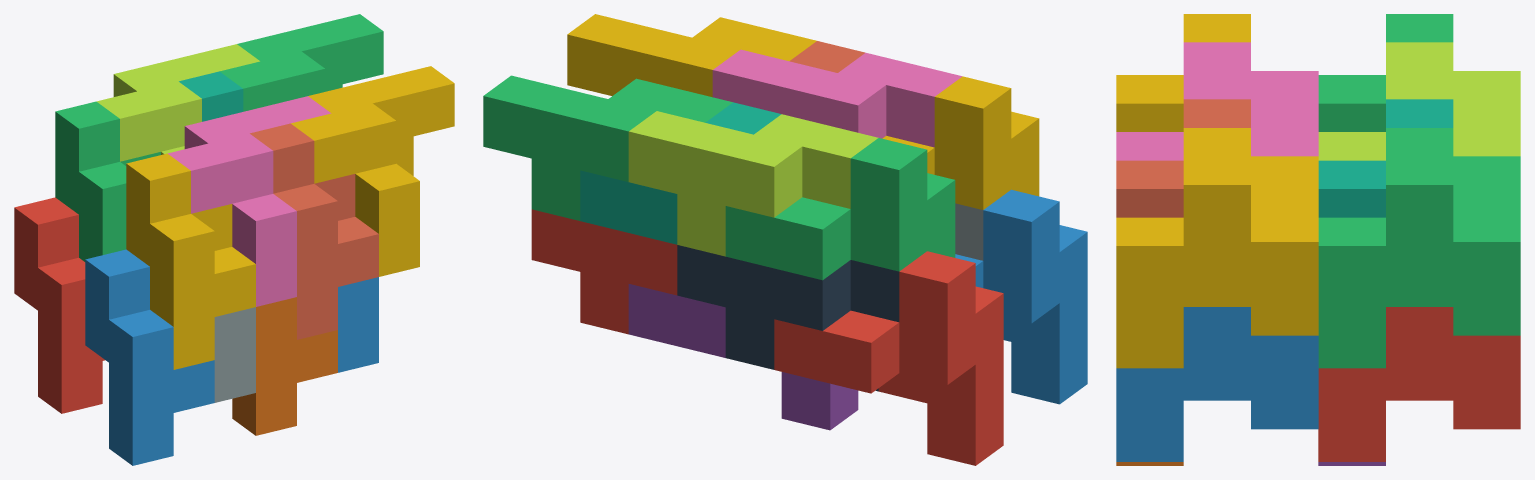
File: tiling.obj
The picture shows the model from 3 angles, left to right: view 1: azimuth 30°, elevation 25°; view 2: azimuth 150°, elevation 25°; view 3: azimuth 270°, elevation 25°; orthographic projection. The views are drawn at different scales.
Visible parts, largest first — view 1: copy_2_domain_8, copy_1_domain_4, copy_1_domain_2, copy_2_domain_4, copy_1_domain_1, copy_1_domain_8, copy_2_domain_7, copy_1_domain_3, copy_2_domain_3, copy_1_domain_6, copy_2_domain_2, copy_2_domain_6 (+1 smaller); view 2: copy_1_domain_1, copy_2_domain_3, copy_1_domain_3, copy_1_domain_2, copy_2_domain_7, copy_2_domain_4, copy_2_domain_1, copy_2_domain_8, copy_1_domain_4, copy_2_domain_5, copy_1_domain_5, copy_1_domain_7 (+2 smaller); view 3: copy_2_domain_8, copy_2_domain_7, copy_2_domain_6, copy_2_domain_5, copy_2_domain_4, copy_2_domain_3, copy_1_domain_8, copy_1_domain_7, copy_1_domain_3, copy_1_domain_4.
Part boxes in pixels (left/top/right/bottom): copy_2_domain_8: left=291, top=66, right=454, bottom=276; copy_1_domain_4: left=126, top=153, right=255, bottom=369; copy_1_domain_2: left=85, top=249, right=214, bottom=465; copy_2_domain_4: left=167, top=96, right=331, bottom=306; copy_1_domain_1: left=14, top=197, right=105, bottom=413; copy_1_domain_8: left=250, top=123, right=378, bottom=339; copy_2_domain_7: left=220, top=14, right=383, bottom=111; copy_1_domain_3: left=55, top=101, right=160, bottom=261; copy_2_domain_3: left=96, top=44, right=259, bottom=161; copy_1_domain_6: left=232, top=297, right=337, bottom=435; copy_2_domain_2: left=214, top=307, right=255, bottom=402; copy_2_domain_6: left=338, top=277, right=378, bottom=372; copy_1_domain_1: left=774, top=251, right=1003, bottom=465; copy_2_domain_3: left=628, top=111, right=878, bottom=256; copy_1_domain_3: left=725, top=138, right=955, bottom=280; copy_1_domain_2: left=955, top=189, right=1087, bottom=404; copy_2_domain_7: left=483, top=75, right=732, bottom=220; copy_2_domain_4: left=712, top=49, right=962, bottom=147; copy_2_domain_1: left=677, top=245, right=899, bottom=391; copy_2_domain_8: left=567, top=14, right=816, bottom=97; copy_1_domain_4: left=882, top=76, right=1039, bottom=209; copy_2_domain_5: left=531, top=209, right=677, bottom=334; copy_1_domain_5: left=628, top=284, right=858, bottom=430; copy_1_domain_7: left=580, top=102, right=781, bottom=244; copy_2_domain_8: left=1116, top=128, right=1318, bottom=368; copy_2_domain_7: left=1318, top=128, right=1520, bottom=368; copy_2_domain_6: left=1116, top=307, right=1318, bottom=461; copy_2_domain_5: left=1318, top=307, right=1520, bottom=461; copy_2_domain_4: left=1116, top=42, right=1318, bottom=160; copy_2_domain_3: left=1318, top=42, right=1520, bottom=160; copy_1_domain_8: left=1116, top=99, right=1250, bottom=217; copy_1_domain_7: left=1318, top=99, right=1453, bottom=217; copy_1_domain_3: left=1318, top=14, right=1453, bottom=131; copy_1_domain_4: left=1116, top=14, right=1250, bottom=131.
Bounding box in the file's own units: 9 × 6 × 6.
